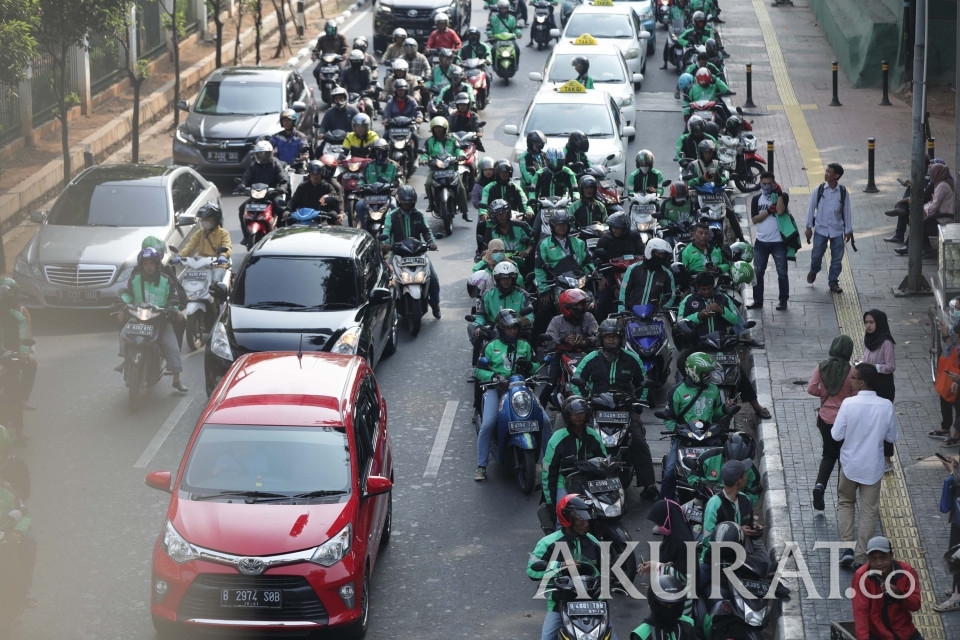plate: (221, 588, 279, 606), (56, 290, 96, 305), (567, 600, 603, 616), (738, 579, 774, 595), (587, 478, 622, 493), (508, 419, 540, 432), (597, 411, 628, 424), (207, 151, 238, 163), (126, 324, 152, 337), (632, 326, 659, 336), (400, 257, 425, 267), (713, 355, 735, 365), (631, 205, 653, 215), (701, 195, 725, 203), (184, 272, 204, 281), (246, 203, 266, 212), (433, 171, 454, 179), (365, 196, 386, 203), (679, 234, 693, 242)
